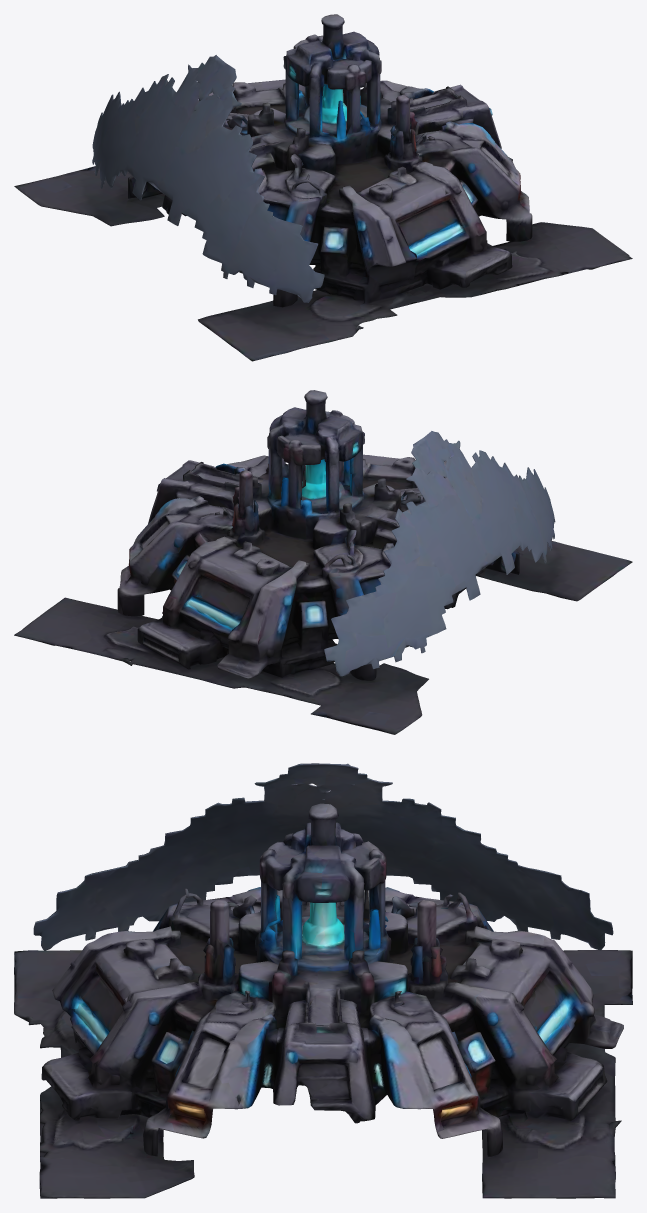
The model's file is cyber-base-1.glb.
3 renders of one model, top to bottom at view 1: azimuth 30°, elevation 25°; view 2: azimuth 150°, elevation 25°; view 3: azimuth 270°, elevation 25°, orthographic. The views are drawn at different scales.
Parts seen in each view (by area): view 1: tripo_node_be8ffd94-0f29-4e14-b76c-7f02704a93f4; view 2: tripo_node_be8ffd94-0f29-4e14-b76c-7f02704a93f4; view 3: tripo_node_be8ffd94-0f29-4e14-b76c-7f02704a93f4.
Boxes of the visible parts, bbox=[...] form: tripo_node_be8ffd94-0f29-4e14-b76c-7f02704a93f4: bbox=[14, 14, 632, 361]; tripo_node_be8ffd94-0f29-4e14-b76c-7f02704a93f4: bbox=[14, 390, 632, 734]; tripo_node_be8ffd94-0f29-4e14-b76c-7f02704a93f4: bbox=[14, 763, 632, 1198].
Size of the model in its own units: 0.9458 by 0.4827 by 1.
Materials: 1 (1 with a texture image).
